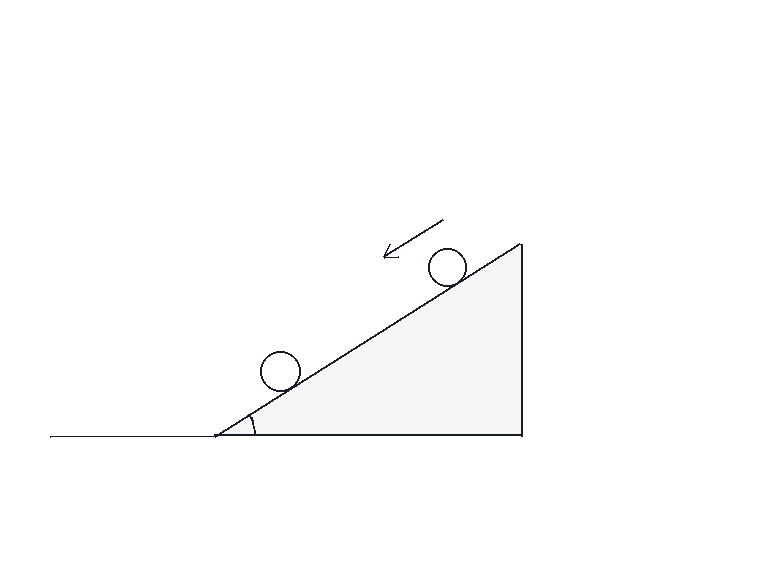ball: (258, 349, 302, 393), (426, 246, 468, 288)
ramp: (213, 242, 523, 437)
